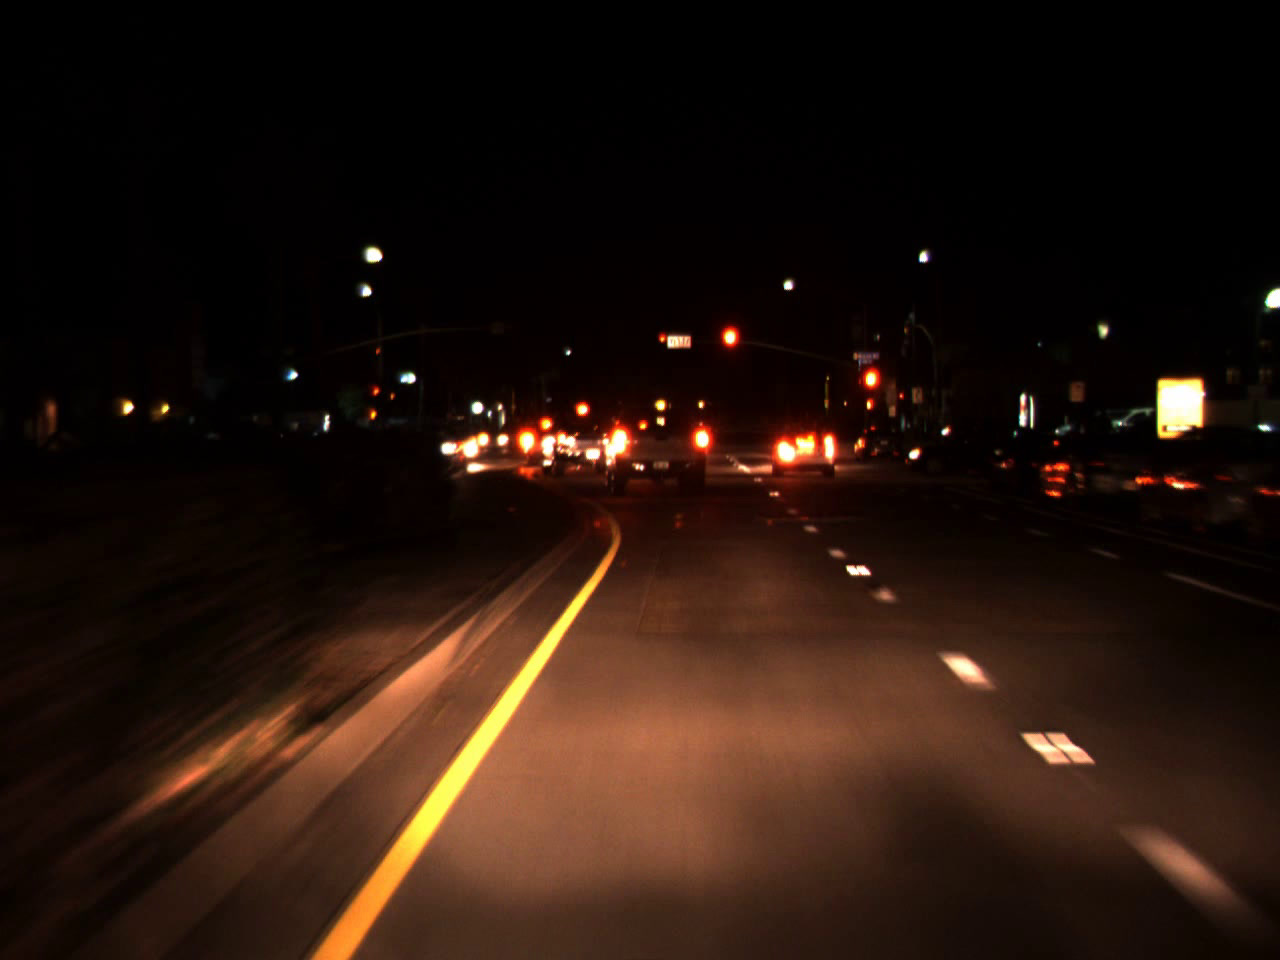stop: (860, 362, 884, 418), (718, 323, 742, 371), (658, 332, 667, 353), (372, 386, 379, 404)
